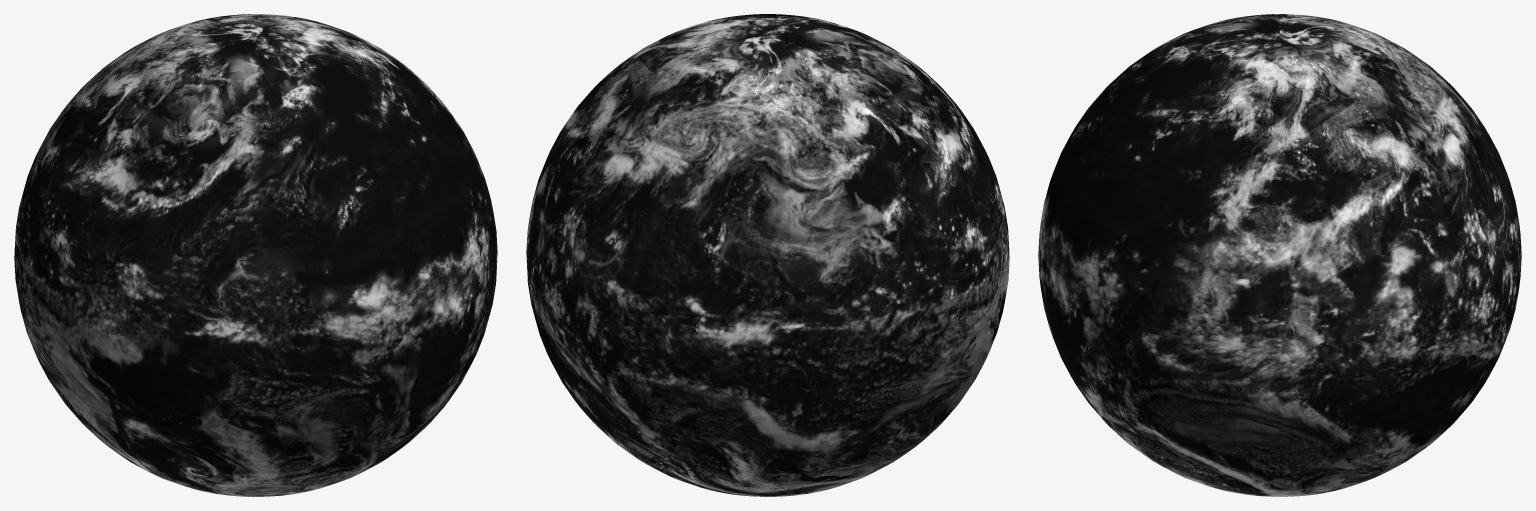
Rendered from earth2.obj.
The picture shows the model from 3 angles, left to right: view 1: azimuth 30°, elevation 25°; view 2: azimuth 150°, elevation 25°; view 3: azimuth 270°, elevation 25°; orthographic projection.
Visible parts, largest first — view 1: Sphere002; view 2: Sphere002; view 3: Sphere002.
Part boxes in pixels (<box>): Sphere002: <box>14,14,497,496</box>; Sphere002: <box>526,14,1009,496</box>; Sphere002: <box>1038,14,1521,496</box>.
Size of the model in its own units: 702 by 702 by 702.
3 materials, 2 textured.
